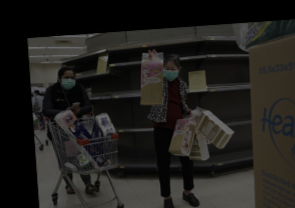with_mask: (162, 63, 179, 82), (59, 73, 76, 91)
